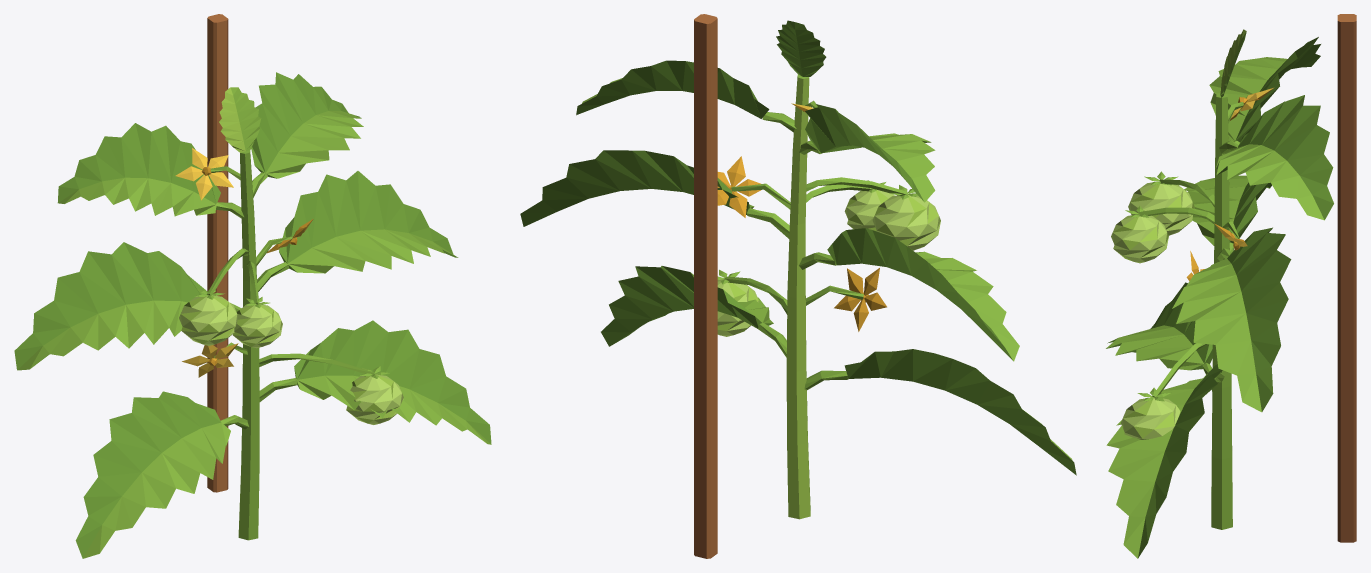
Rendered from FMS_Crop_Tomato_S2.fbx.
3 renders of one model, left to right at view 1: azimuth 30°, elevation 25°; view 2: azimuth 150°, elevation 25°; view 3: azimuth 270°, elevation 25°, orthographic. The views are drawn at different scales.
Visible parts, largest first — view 1: FMS_Crop_Tomato_S2; view 2: FMS_Crop_Tomato_S2; view 3: FMS_Crop_Tomato_S2.
Boxes of the visible parts, x1,y1,x2,y2 form: FMS_Crop_Tomato_S2: [14, 14, 491, 558]; FMS_Crop_Tomato_S2: [520, 14, 1076, 558]; FMS_Crop_Tomato_S2: [1106, 14, 1356, 558].
Size of the model in its own units: 0.7543 by 0.7805 by 0.3416.
